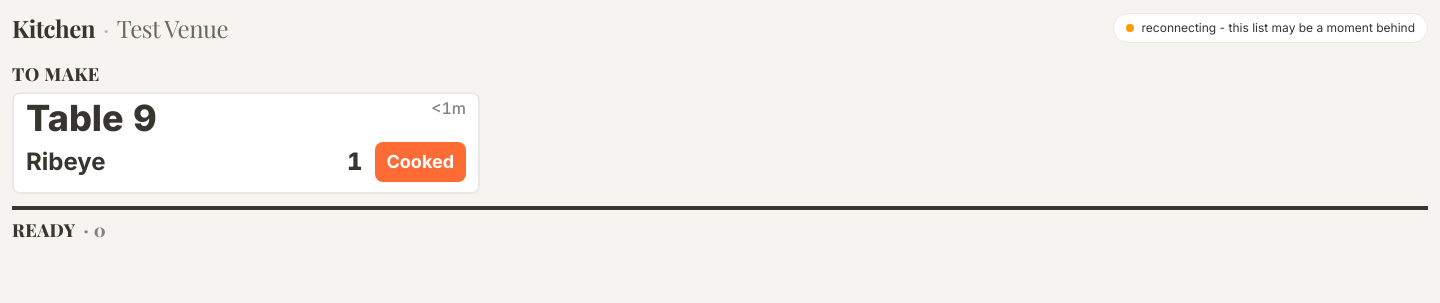
Test case: a bump refetches from the server › kitchen: a REFUSED bump also refetches, and still reports the failure to the card
The width and height of the screenshot is (1440, 303).
Click the button with test id "station-bump-button" at (420, 162), box [374,142,466,182]
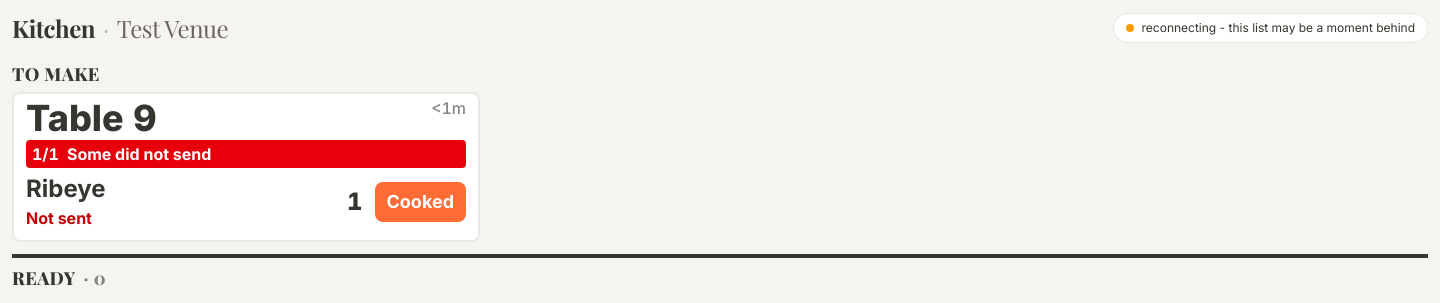
expect the text "Not sent" is shown: met, box [26,208,92,228]
